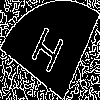H: (25, 25, 67, 83)
